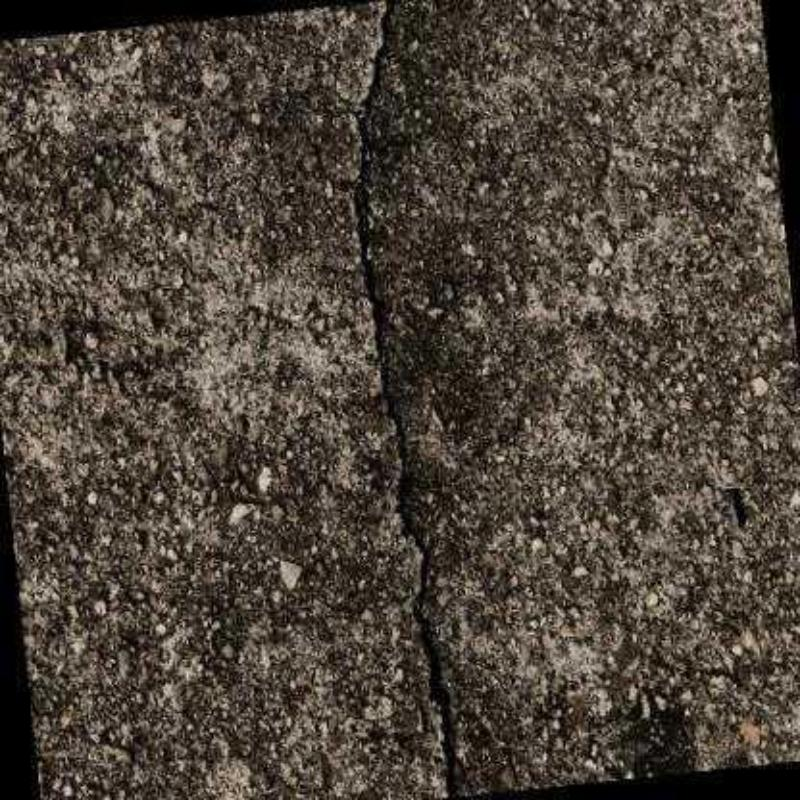pothole: (348, 0, 458, 798)
